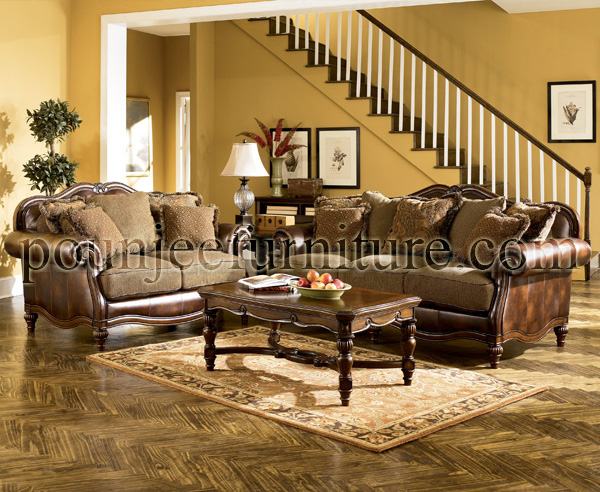Carving Chair: (289, 192, 586, 384), (6, 183, 237, 341)
Carving Table: (194, 278, 419, 399)
